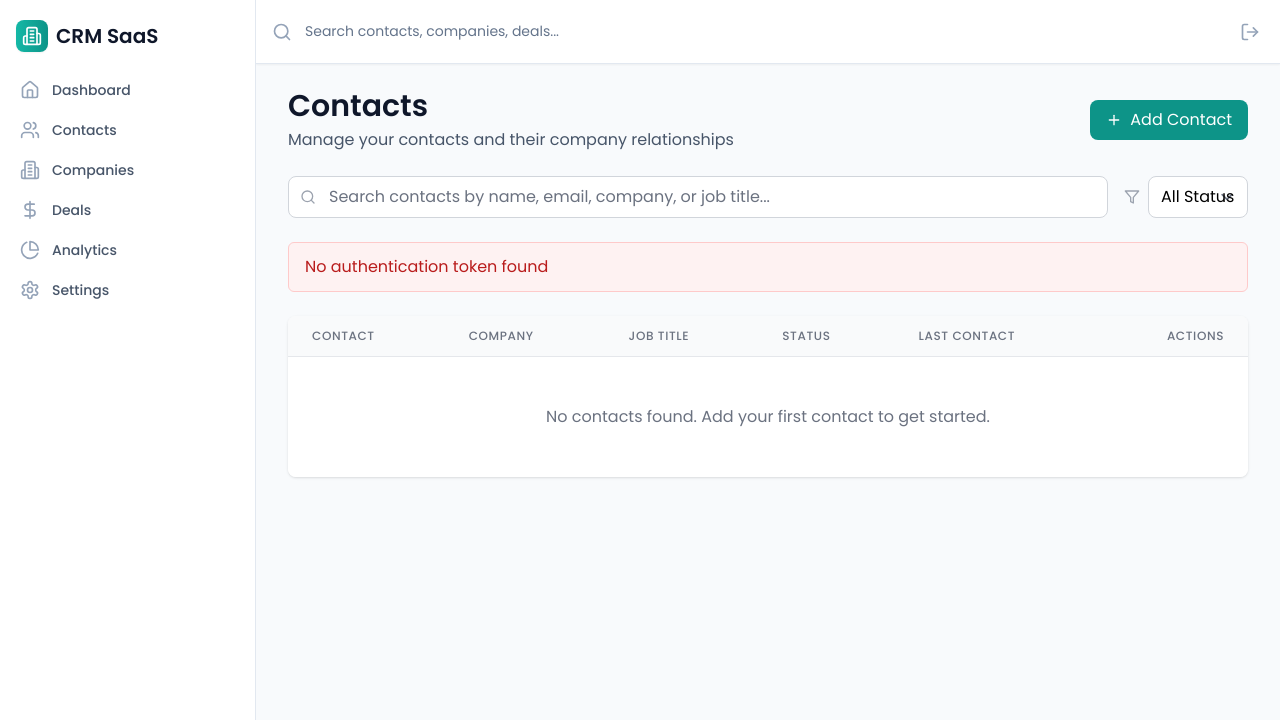
Contacts Component › opens add contact modal when add button is clicked
Click the button "Add Contact": coordinates (1169, 120) [1090,100,1248,140]
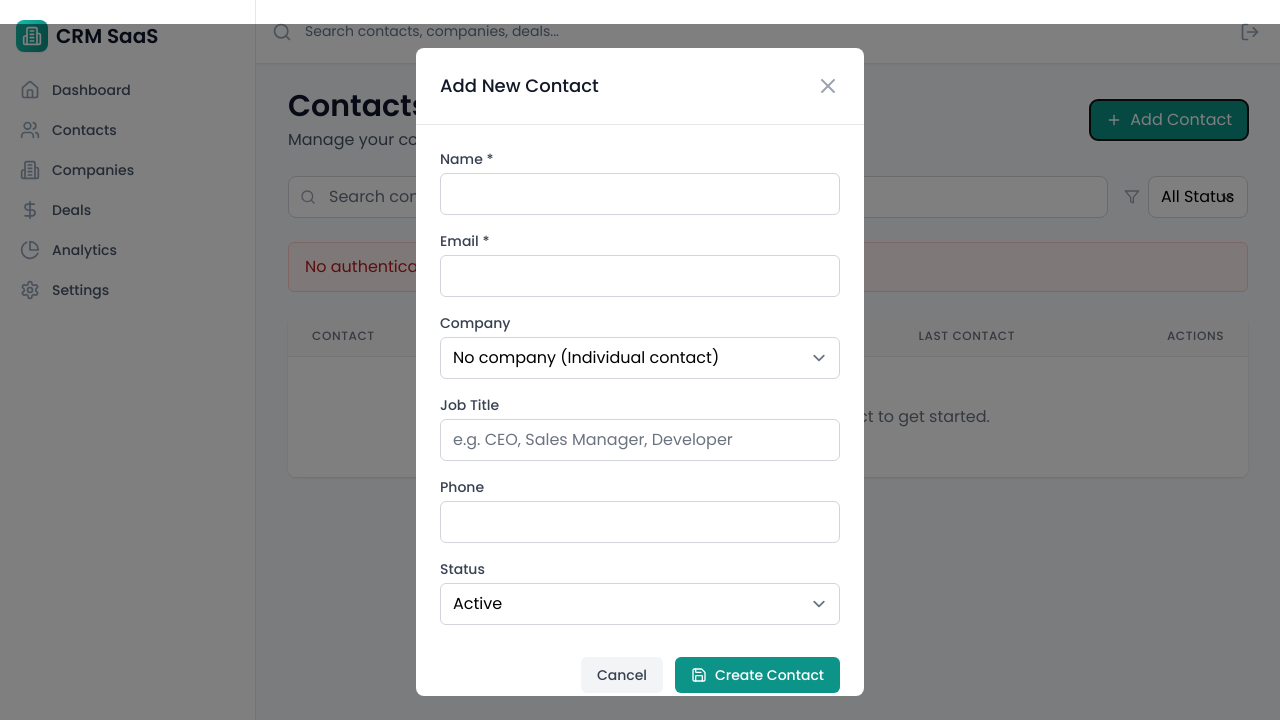
Check: the heading "Add New Contact" is shown, box [440,72,599,100]
